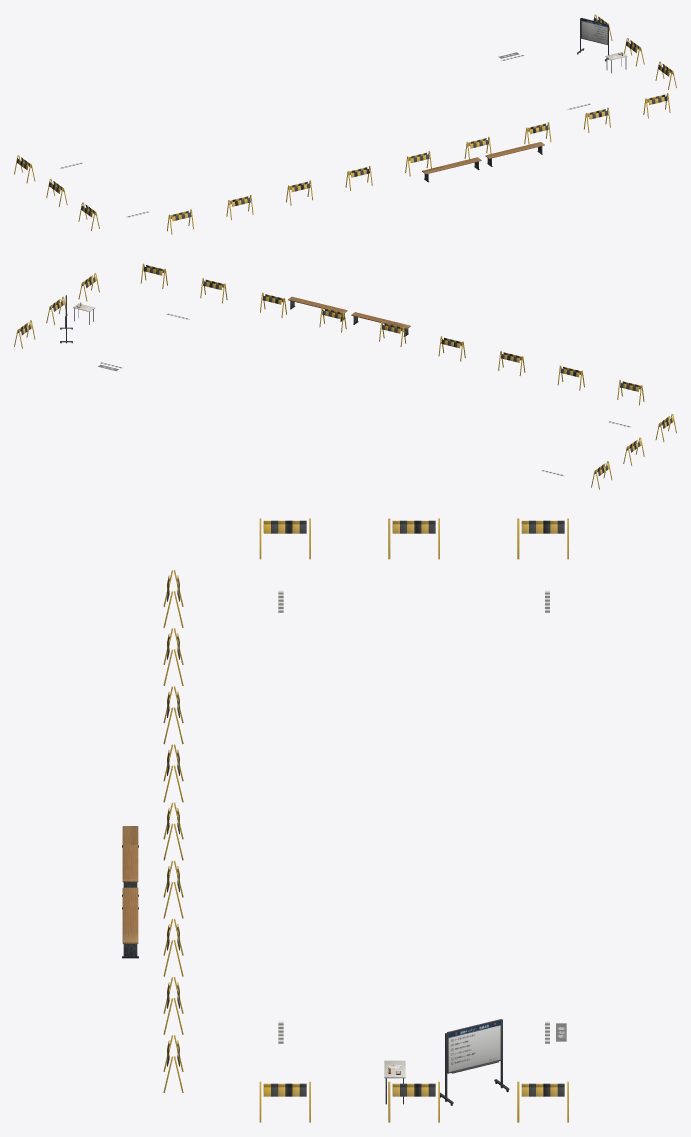
File: practice_yard_props.glb
3 views of the same model, one above another, from view 1: azimuth 30°, elevation 25°; view 2: azimuth 150°, elevation 25°; view 3: azimuth 270°, elevation 25° (orthographic). The views are drawn at different scales.
Visible parts, largest first — view 1: PRP_Yard_Barriers, PRP_Yard_Bench, PRP_Yard_Checklist; view 2: PRP_Yard_Barriers, PRP_Yard_Bench; view 3: PRP_Yard_Barriers, PRP_Yard_Checklist, PRP_Yard_Bench.
Part boxes in pixels (bbox=[...]): PRP_Yard_Barriers: bbox=[14, 14, 676, 234]; PRP_Yard_Bench: bbox=[422, 142, 544, 182]; PRP_Yard_Checklist: bbox=[577, 18, 608, 61]; PRP_Yard_Barriers: bbox=[14, 263, 676, 489]; PRP_Yard_Bench: bbox=[288, 296, 410, 336]; PRP_Yard_Barriers: bbox=[163, 518, 568, 1122]; PRP_Yard_Checklist: bbox=[440, 1019, 509, 1105]; PRP_Yard_Bench: bbox=[122, 826, 138, 958].
Size of the model in its own units: 31.47 by 1.78 by 10.4.
7 materials, 7 textured.
